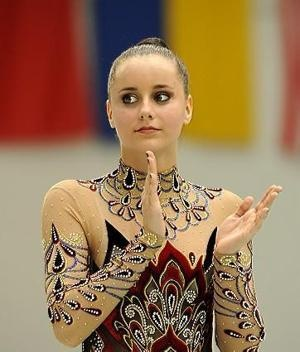person without safety: (42, 29, 265, 352)
